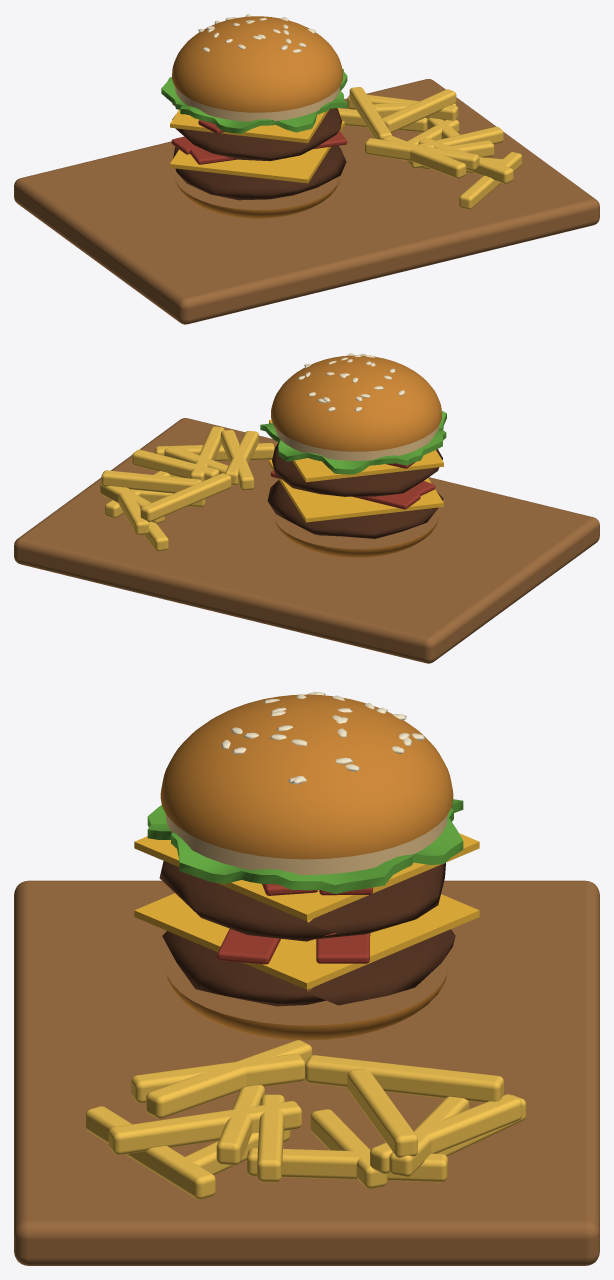
File: burger-duplo.glb
3 views of the same model, one above another, from view 1: azimuth 30°, elevation 25°; view 2: azimuth 150°, elevation 25°; view 3: azimuth 270°, elevation 25° (orthographic). The views are drawn at different scales.
Parts seen in each view (by area): view 1: burger-duplo; view 2: burger-duplo; view 3: burger-duplo.
Boxes of the visible parts, x1,y1,x2,y2 form: burger-duplo: (14, 14, 599, 324); burger-duplo: (14, 353, 599, 663); burger-duplo: (14, 692, 599, 1265).
Size of the model in its own units: 0.34 by 0.1532 by 0.24.
